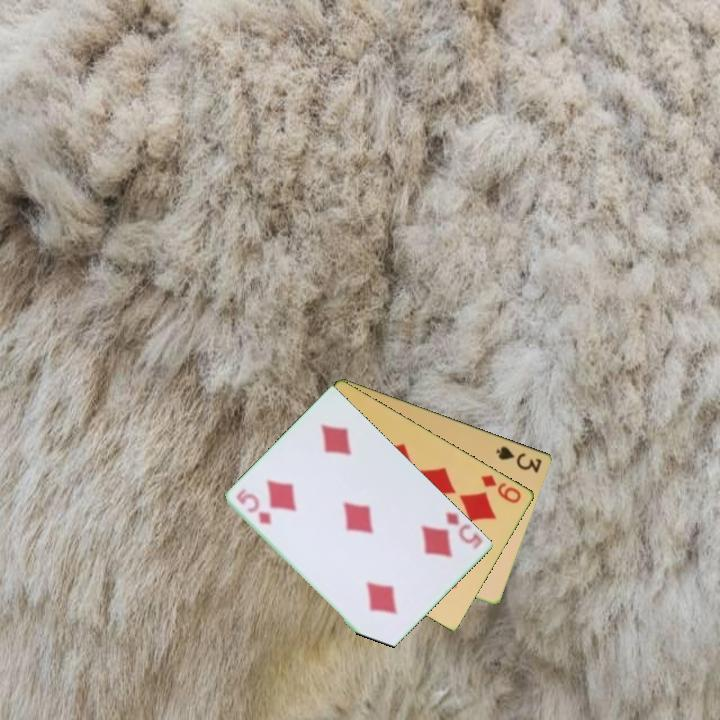3s: (493, 442, 545, 476)
5d: (441, 508, 486, 549), (233, 486, 275, 527)
9d: (477, 471, 524, 506)
